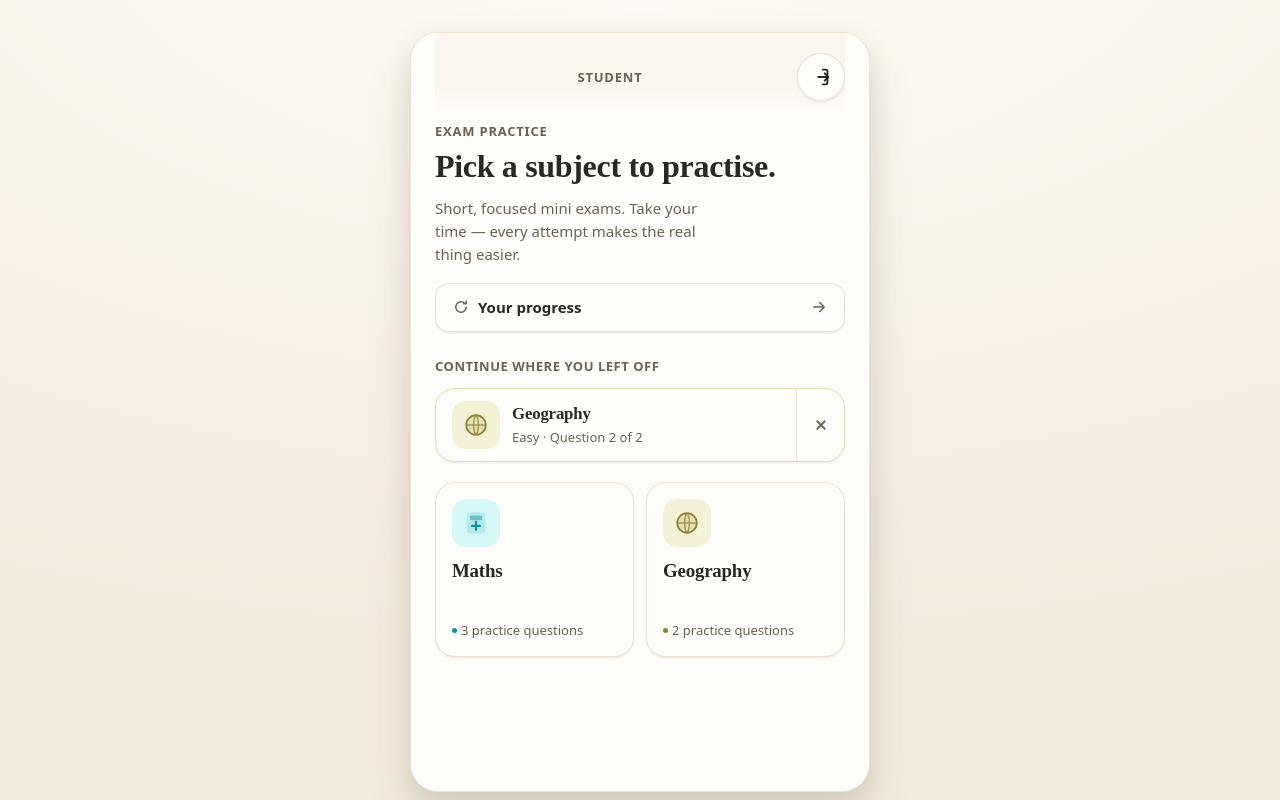
Test: ExamApp and what this server can mark › shows the note under a written question of a draft started while marking worked
The width and height of the screenshot is (1280, 800).
Click the button with test id "resume-geo-easy" at (614, 425), box [436, 389, 792, 461]
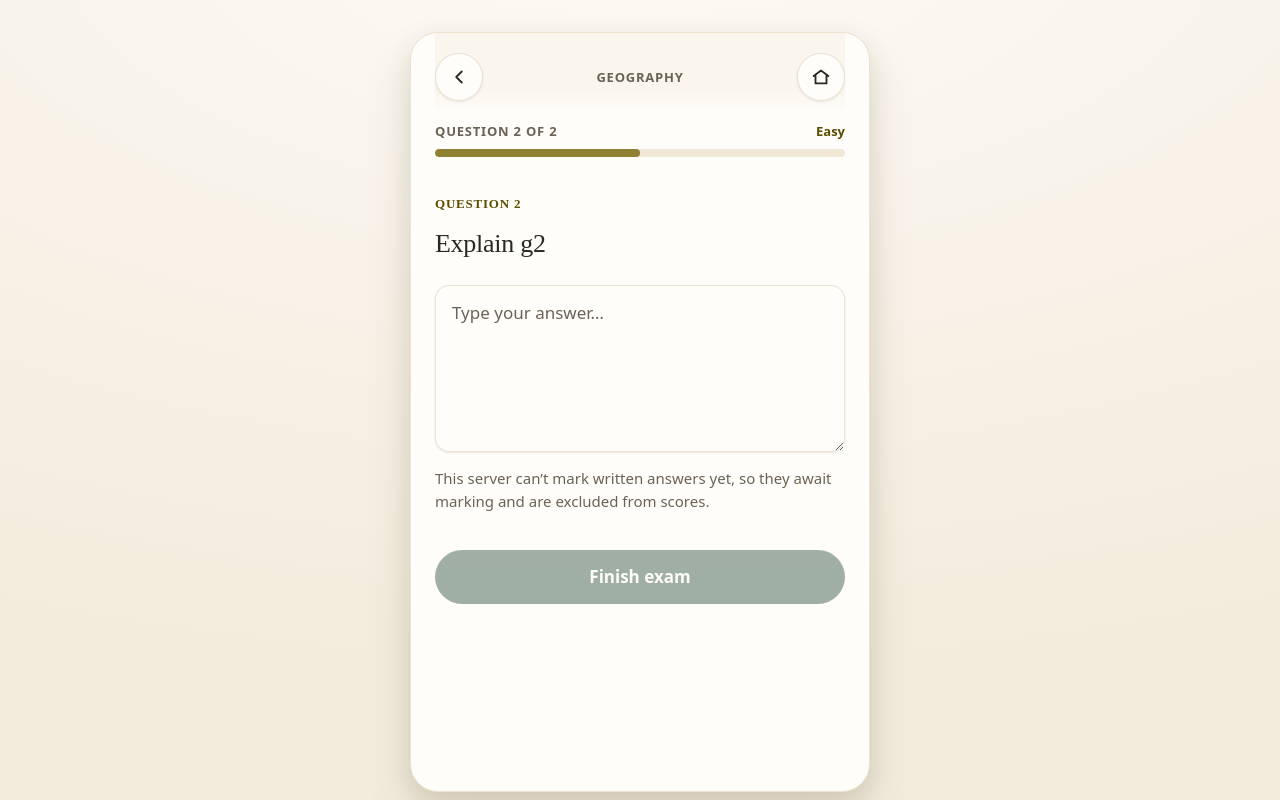
Expected: the text with test id "exam-progress" reads "Question 2 of 2", [435, 121, 557, 141]
Expected: the text with test id "exam-free-unmarked" is shown, [435, 467, 845, 514]
